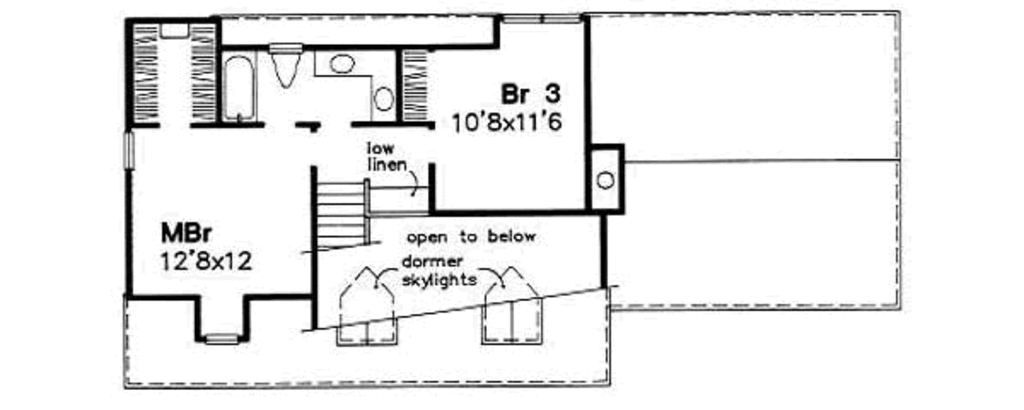large_sink: (270, 51, 302, 86)
small_sink: (310, 53, 401, 122)
stairs: (310, 175, 372, 260)
tub: (220, 45, 261, 128)
windows: (491, 9, 584, 28), (201, 329, 244, 349), (119, 134, 137, 173)
